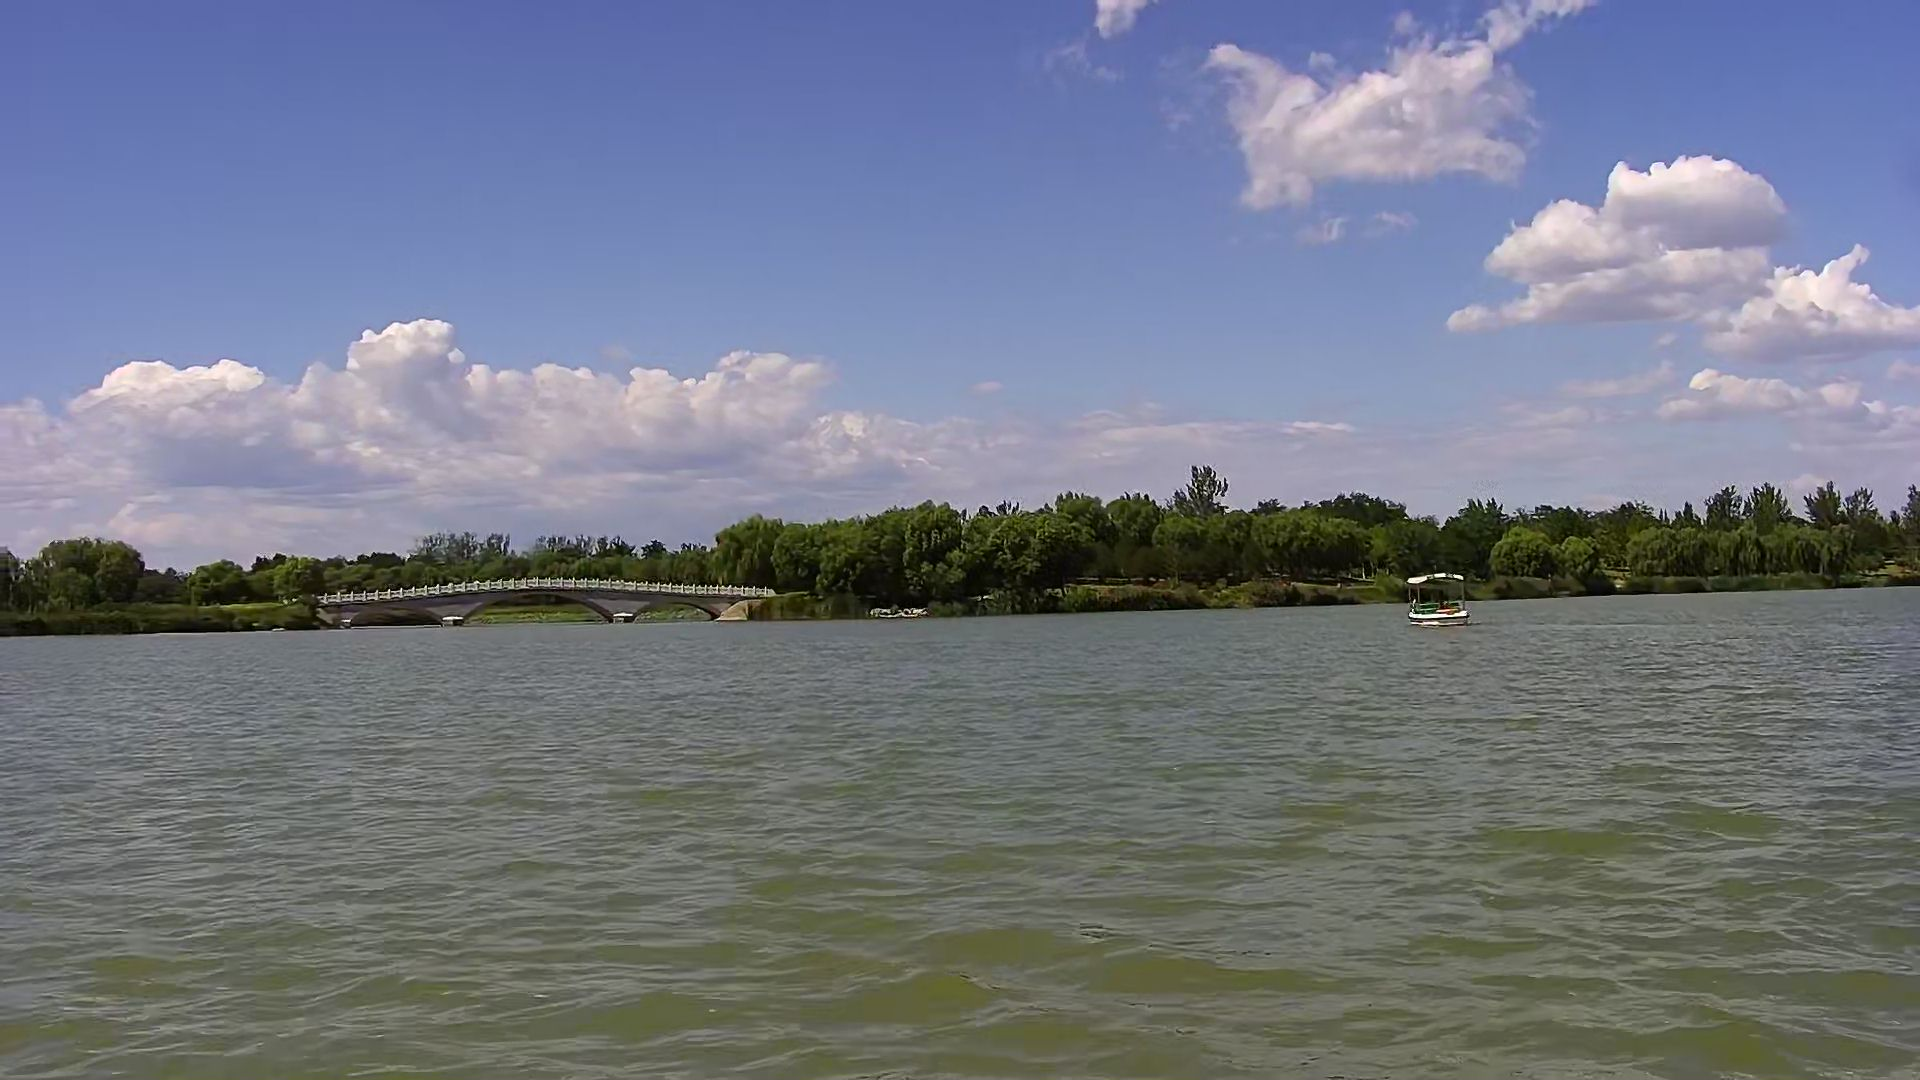boat: (1407, 568, 1469, 628)
bridge: (344, 578, 746, 624)
